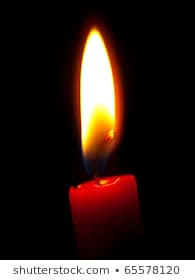Fire: (77, 23, 126, 165)
